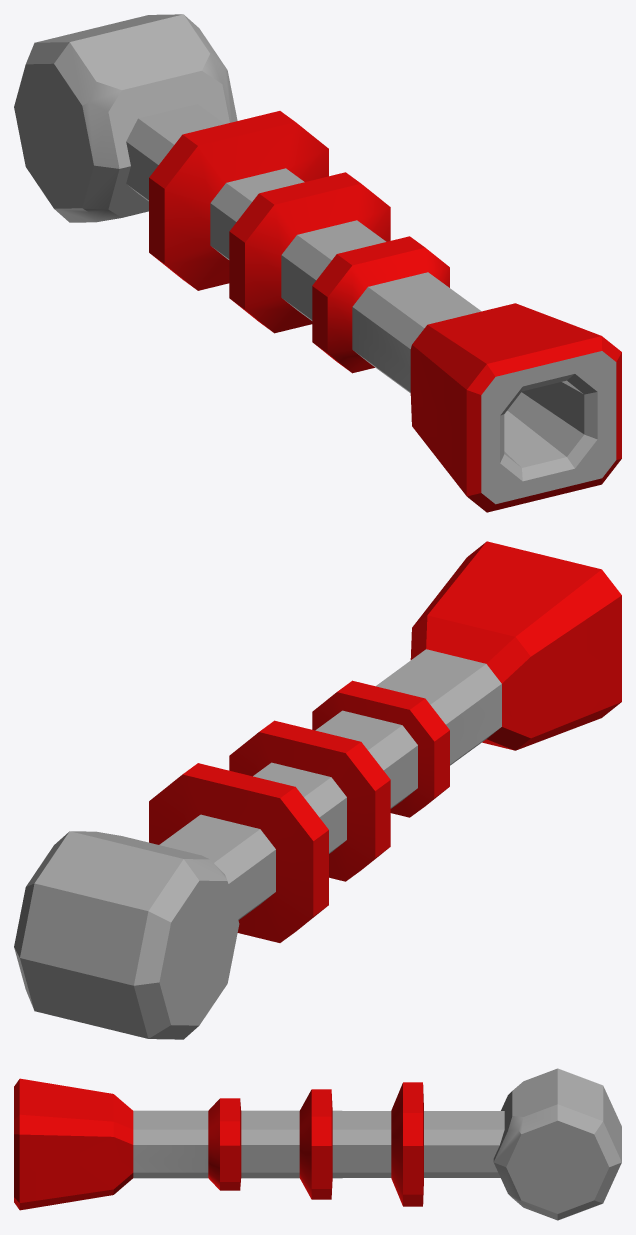
File: Enemy_TurretBarrel_Var3.fbx
The picture shows the model from 3 angles, top to bottom: view 1: azimuth 30°, elevation 25°; view 2: azimuth 150°, elevation 25°; view 3: azimuth 270°, elevation 25°; orthographic projection. The views are drawn at different scales.
Parts seen in each view (by area): view 1: Enemy_Turret_Barrel_Var3; view 2: Enemy_Turret_Barrel_Var3; view 3: Enemy_Turret_Barrel_Var3.
Part boxes in pixels (left/top/right/bottom): Enemy_Turret_Barrel_Var3: left=14, top=14, right=621, bottom=512; Enemy_Turret_Barrel_Var3: left=14, top=541, right=621, bottom=1039; Enemy_Turret_Barrel_Var3: left=14, top=1068, right=621, bottom=1220.
Size of the model in its own units: 0.9515 by 0.9995 by 4.73.
